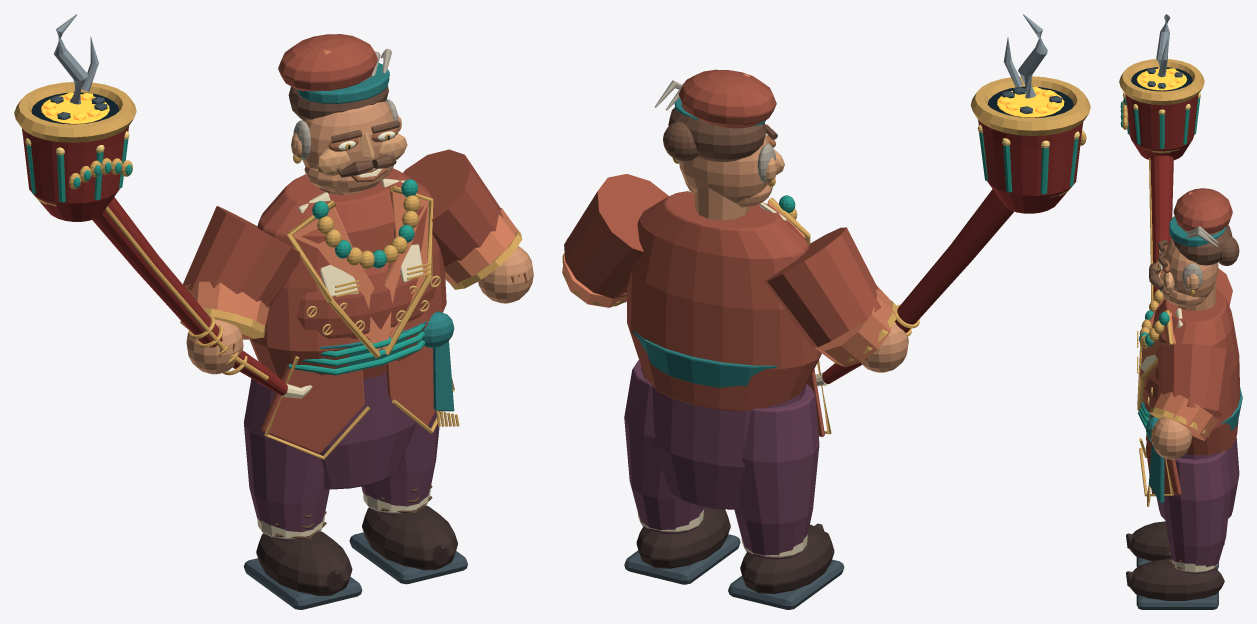
The model's file is master-thief.glb.
3 renders of one model, left to right at view 1: azimuth 30°, elevation 25°; view 2: azimuth 150°, elevation 25°; view 3: azimuth 270°, elevation 25°, orthographic. The views are drawn at different scales.
Visible parts, largest first — view 1: Master Thief — russet robe mesh.002, Master Thief — lacquered redwood pipe mesh, Master Thief — plum harem trousers mesh.001, Master Thief — russet robe mesh.003, Master Thief — russet robe mesh.004, Master Thief — plum harem trousers mesh, Antique gold mesh.004, Antique gold mesh, Weathered dark leather mesh.001, Weathered dark leather mesh, Master Thief — russet robe mesh.005, Master Thief — weathered peach mesh.002 (+20 smaller); view 2: Master Thief — russet robe mesh.002, Master Thief — plum harem trousers mesh.001, Master Thief — lacquered redwood pipe mesh, Master Thief — plum harem trousers mesh, Master Thief — russet robe mesh.003, Master Thief — russet robe mesh.004, Master Thief — plum harem trousers mesh.002, Master Thief — russet robe mesh.005, Master Thief — weathered peach mesh.002, Antique gold mesh.004, Master Thief — greying chestnut mesh, Weathered dark leather mesh (+11 smaller); view 3: Master Thief — plum harem trousers mesh.002, Master Thief — russet robe mesh.002, Master Thief — lacquered redwood pipe mesh, Master Thief — russet robe mesh.004, Weathered dark leather mesh.001, Antique gold mesh.004, Master Thief — weathered peach mesh.002, Master Thief — russet robe mesh.005, Master Thief — greying chestnut mesh, Antique gold mesh, Master Thief — embroidered vermilion mesh.002, Weathered dark leather mesh (+17 smaller).
Part boxes in pixels (bbox=[...]): Master Thief — russet robe mesh.002: bbox=[249, 168, 446, 453]; Master Thief — lacquered redwood pipe mesh: bbox=[22, 126, 287, 395]; Master Thief — plum harem trousers mesh.001: bbox=[244, 378, 329, 540]; Master Thief — russet robe mesh.003: bbox=[183, 206, 300, 307]; Master Thief — russet robe mesh.004: bbox=[403, 149, 503, 266]; Master Thief — plum harem trousers mesh: bbox=[319, 373, 416, 489]; Antique gold mesh.004: bbox=[14, 82, 268, 380]; Antique gold mesh: bbox=[264, 185, 459, 459]; Weathered dark leather mesh.001: bbox=[362, 505, 457, 570]; Weathered dark leather mesh: bbox=[256, 531, 352, 595]; Master Thief — russet robe mesh.005: bbox=[278, 34, 377, 91]; Master Thief — weathered peach mesh.002: bbox=[296, 101, 401, 195]; Master Thief — russet robe mesh.002: bbox=[627, 190, 824, 436]; Master Thief — plum harem trousers mesh.001: bbox=[734, 384, 819, 559]; Master Thief — lacquered redwood pipe mesh: bbox=[822, 119, 1083, 383]; Master Thief — plum harem trousers mesh: bbox=[641, 366, 805, 509]; Master Thief — russet robe mesh.003: bbox=[764, 227, 880, 347]; Master Thief — russet robe mesh.004: bbox=[564, 174, 668, 298]; Master Thief — plum harem trousers mesh.002: bbox=[624, 360, 704, 533]; Master Thief — russet robe mesh.005: bbox=[678, 69, 776, 128]; Master Thief — weathered peach mesh.002: bbox=[679, 135, 779, 220]; Antique gold mesh.004: bbox=[896, 76, 1090, 336]; Master Thief — greying chestnut mesh: bbox=[663, 104, 777, 161]; Weathered dark leather mesh: bbox=[740, 523, 834, 594]; Master Thief — plum harem trousers mesh.002: bbox=[1163, 450, 1231, 573]; Master Thief — russet robe mesh.002: bbox=[1140, 289, 1240, 494]; Master Thief — lacquered redwood pipe mesh: bbox=[1125, 93, 1198, 300]; Master Thief — russet robe mesh.004: bbox=[1157, 344, 1232, 417]; Weathered dark leather mesh.001: bbox=[1126, 558, 1224, 600]; Antique gold mesh.004: bbox=[1119, 59, 1204, 301]; Master Thief — weathered peach mesh.002: bbox=[1161, 238, 1218, 310]; Master Thief — russet robe mesh.005: bbox=[1173, 188, 1232, 233]; Master Thief — greying chestnut mesh: bbox=[1149, 225, 1239, 289]; Antique gold mesh: bbox=[1137, 290, 1173, 506]; Master Thief — embroidered vermilion mesh.002: bbox=[1153, 391, 1218, 440]; Weathered dark leather mesh: bbox=[1126, 521, 1224, 560].
Bounding box in the file's own units: 2.48 × 2.93 × 0.7058.
